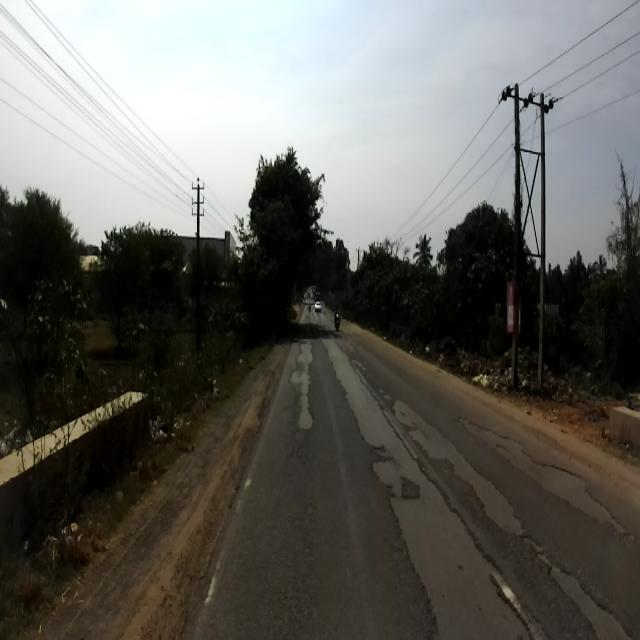electric pole ahead at: (496, 73, 571, 388)
